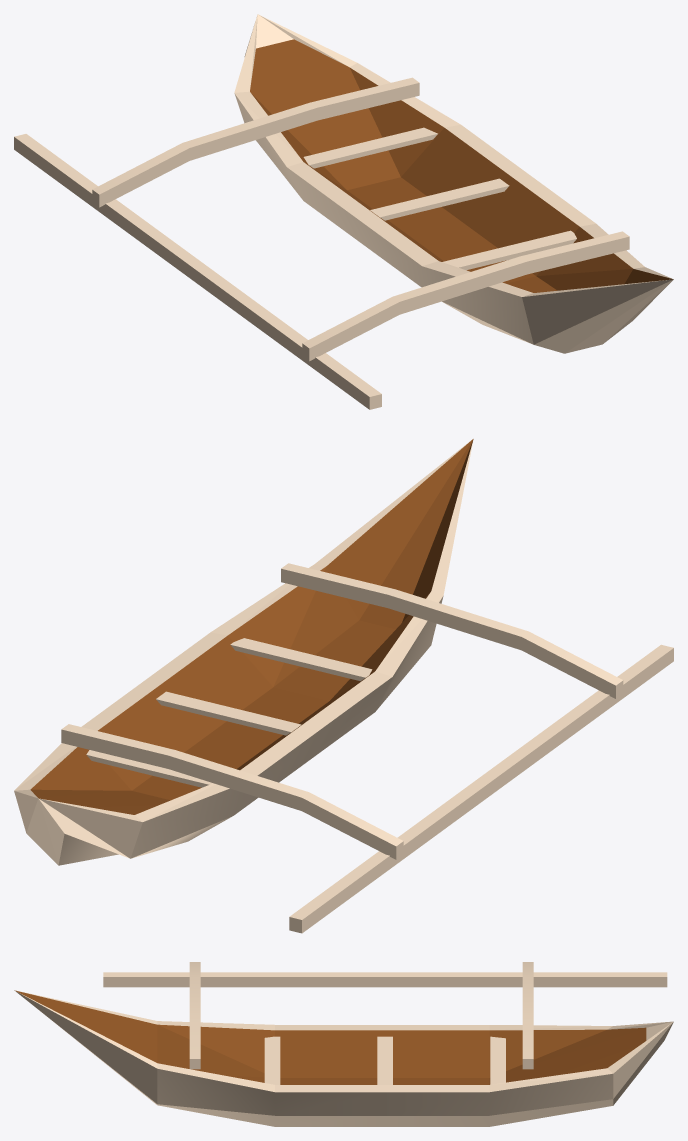
Rendered from fishboat.fbx.
The picture shows the model from 3 angles, top to bottom: view 1: azimuth 30°, elevation 25°; view 2: azimuth 150°, elevation 25°; view 3: azimuth 270°, elevation 25°; orthographic projection. The views are drawn at different scales.
Parts seen in each view (by area): view 1: fishboat; view 2: fishboat; view 3: fishboat.
Boxes of the visible parts, bbox=[...] form: fishboat: bbox=[14, 14, 673, 409]; fishboat: bbox=[14, 439, 673, 933]; fishboat: bbox=[14, 962, 673, 1126].
Bounding box in the file's own units: 5.53 × 2.47 × 11.71.
